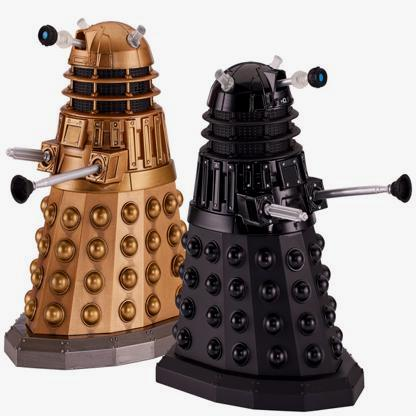dalek: (146, 55, 416, 398), (0, 2, 198, 416)
